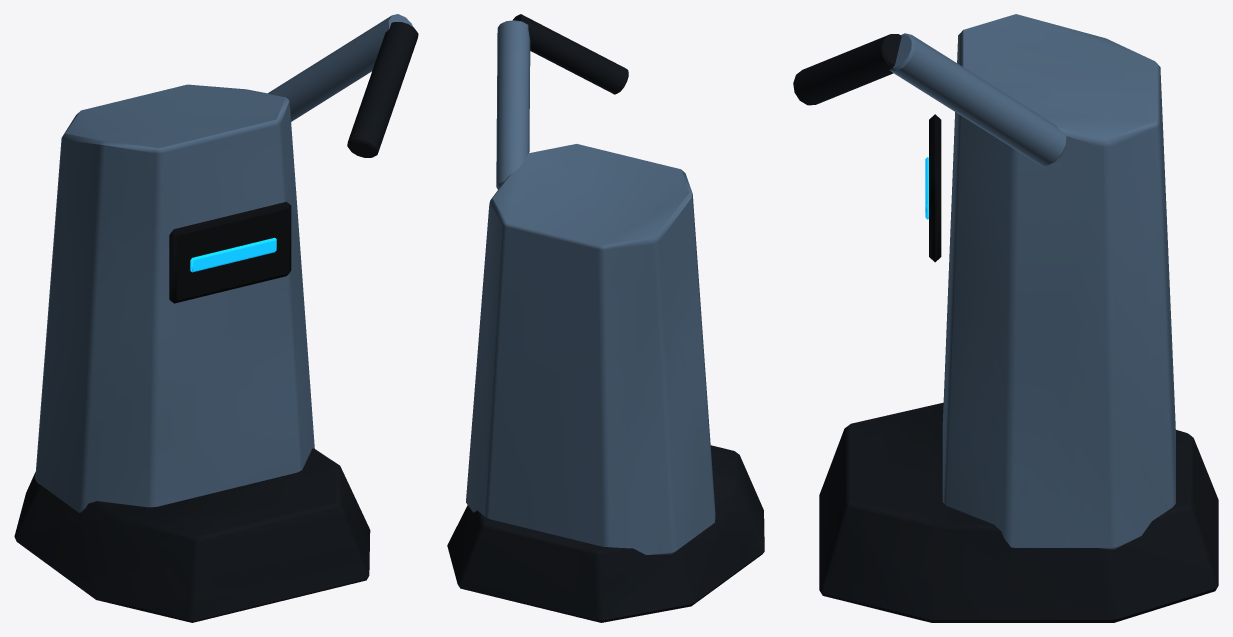
Rendered from Maintenance_Station.fbx.
3 views of the same model, side by side, from view 1: azimuth 30°, elevation 25°; view 2: azimuth 150°, elevation 25°; view 3: azimuth 270°, elevation 25° (orthographic). The views are drawn at different scales.
Parts seen in each view (by area): view 1: Maintenance_Station; view 2: Maintenance_Station; view 3: Maintenance_Station.
Boxes of the visible parts, bbox=[...] form: Maintenance_Station: bbox=[14, 14, 418, 622]; Maintenance_Station: bbox=[447, 14, 764, 622]; Maintenance_Station: bbox=[793, 14, 1218, 622].
Size of the model in its own units: 1.22 by 1.96 by 1.27.
